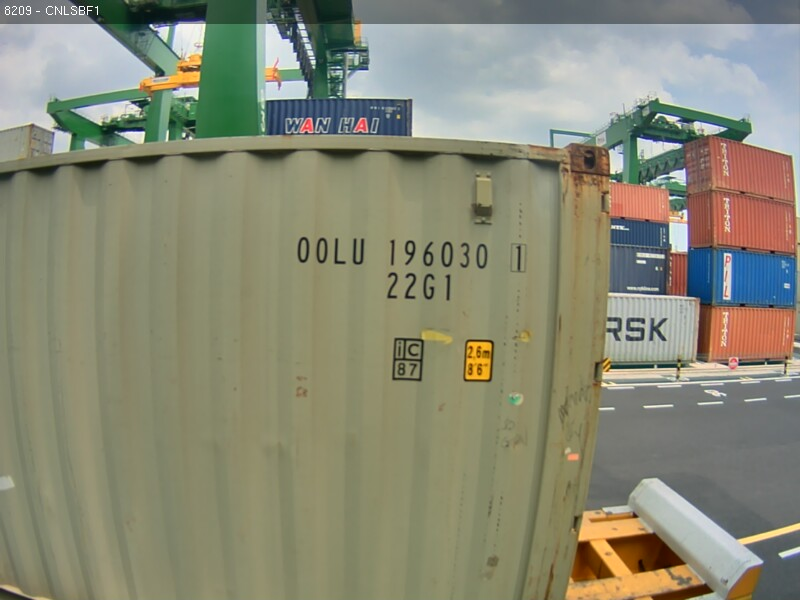container_no_door: (112, 134, 619, 579)
